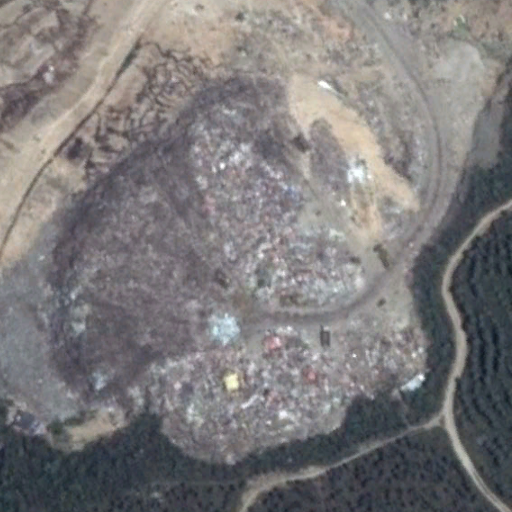msw: (57, 77, 424, 429)
